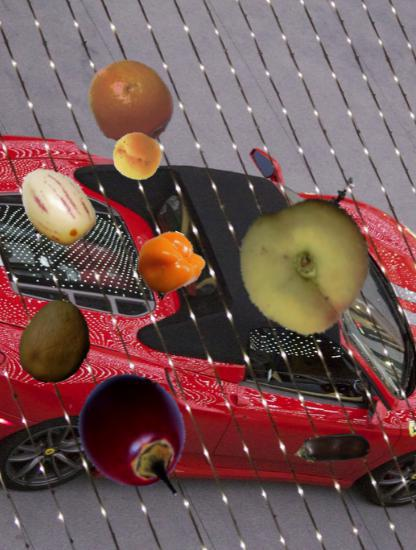Eggplant: (291, 408, 372, 489)
Papaya: (13, 299, 99, 385)
Peach: (237, 196, 375, 334), (112, 131, 163, 182)
Pepino: (12, 165, 99, 252)
Pepper: (135, 231, 204, 300)
Tamarillo: (75, 371, 200, 496)
Tangelo: (83, 56, 176, 149)
